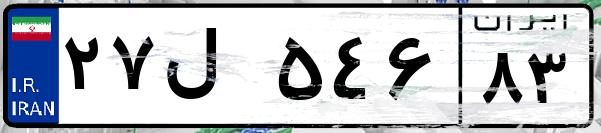2: (57, 26, 110, 100)
3: (525, 38, 570, 115)
4: (330, 28, 385, 110)
5: (270, 28, 330, 110)
6: (385, 28, 445, 110)
7: (110, 28, 158, 98)
8: (475, 38, 525, 113)
ل: (158, 20, 270, 120)
